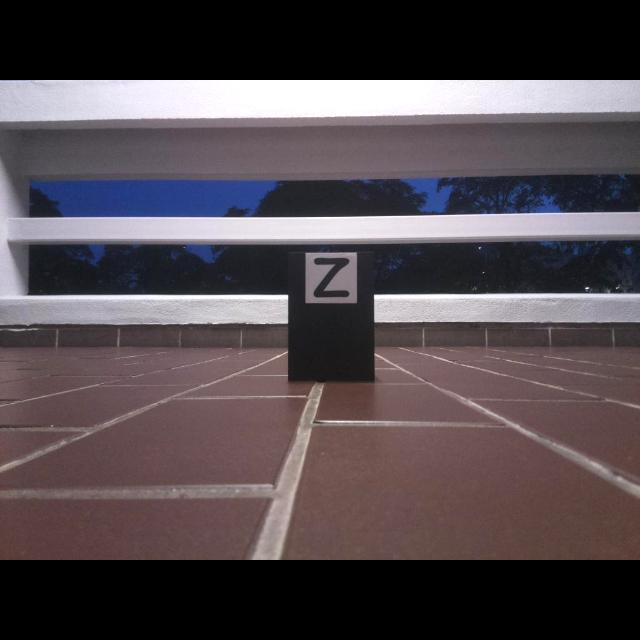Z: (314, 258, 349, 297)
